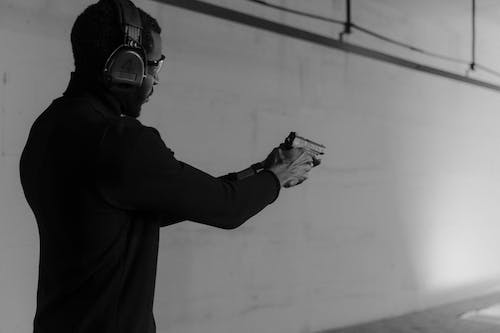gun: (283, 130, 327, 157)
